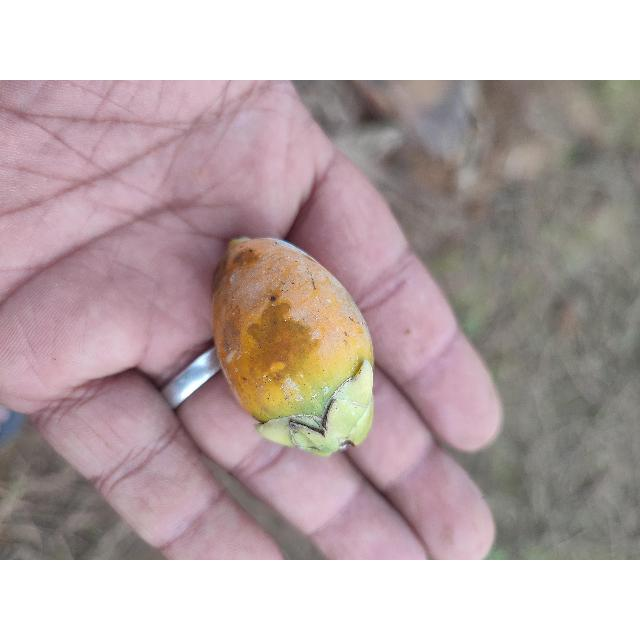damaged: (211, 237, 375, 458)
